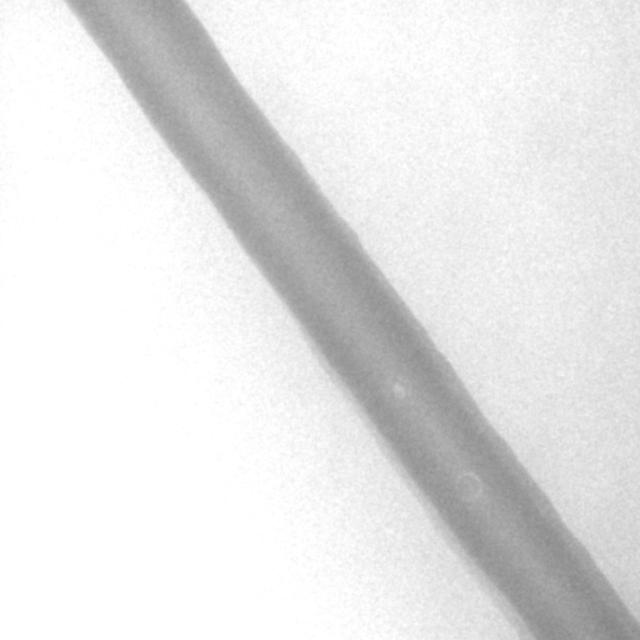hollow bead: (452, 469, 482, 505)
